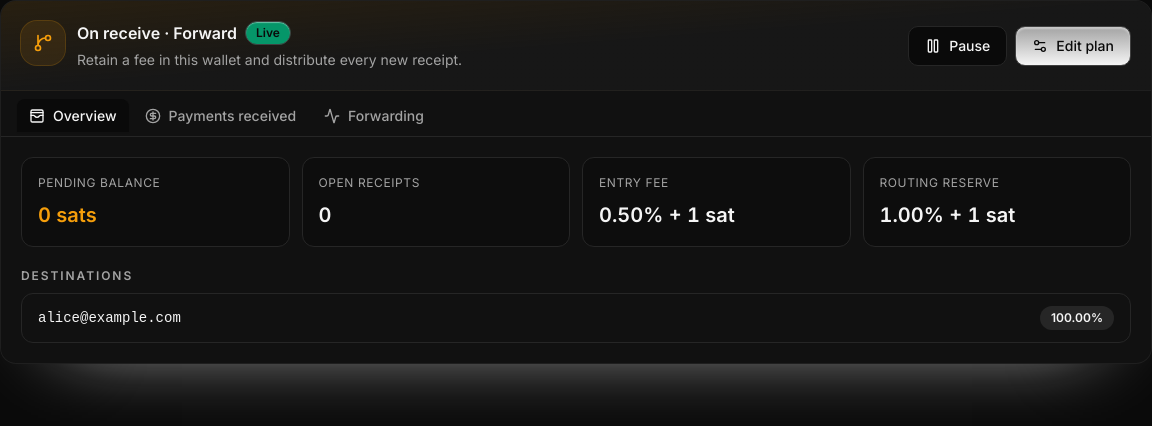
Scenario: RemoteWalletForwardingPanel › paginates activity attempts independently with the server cursor
Click the tab "Forwarding". click: point(374, 116)
box: [312,99,436,132]
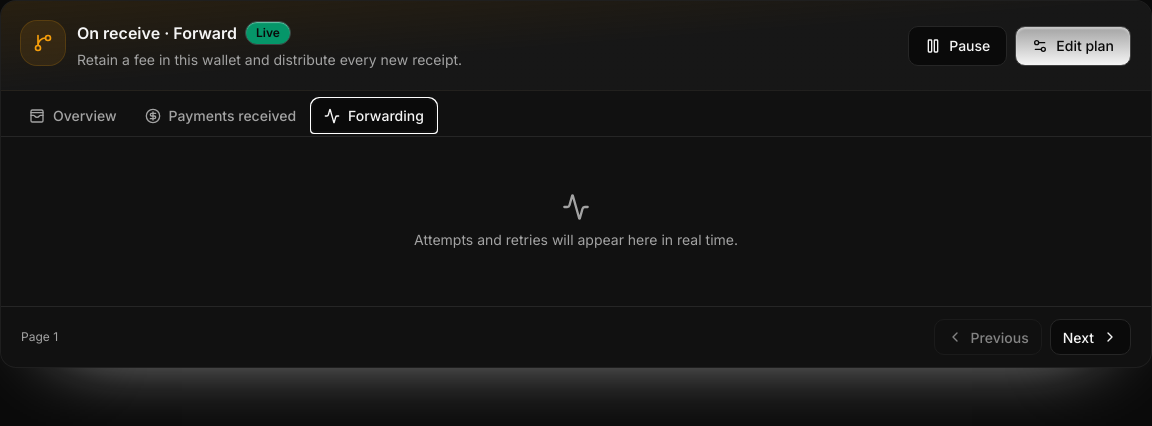
Click the button with aria-label "Next forwarding page". click: point(1090, 337)
box: [1050,319,1131,355]
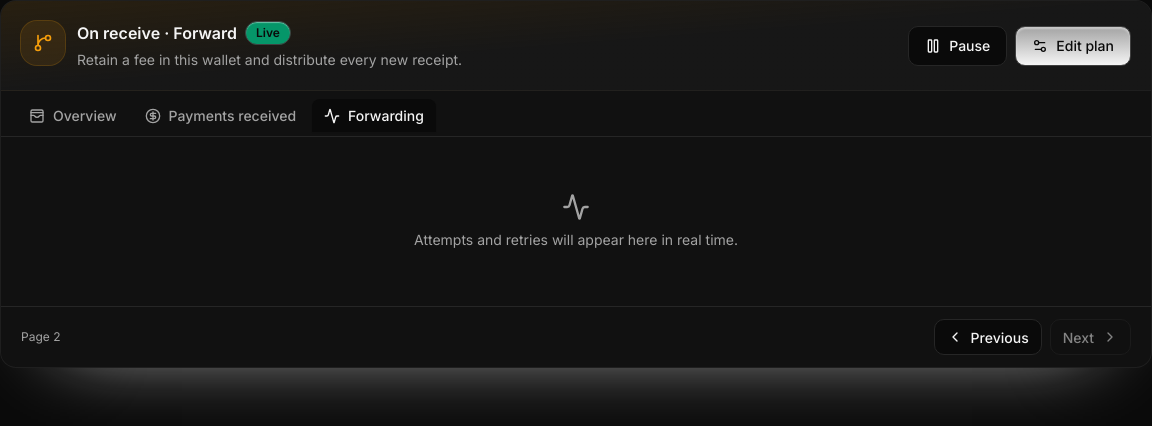
Result: the text "Page 2" is shown at [21,328,60,346]
